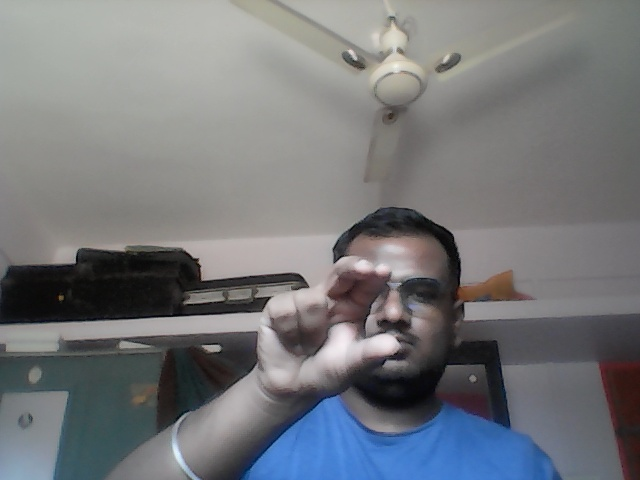No: (254, 252, 405, 405)
